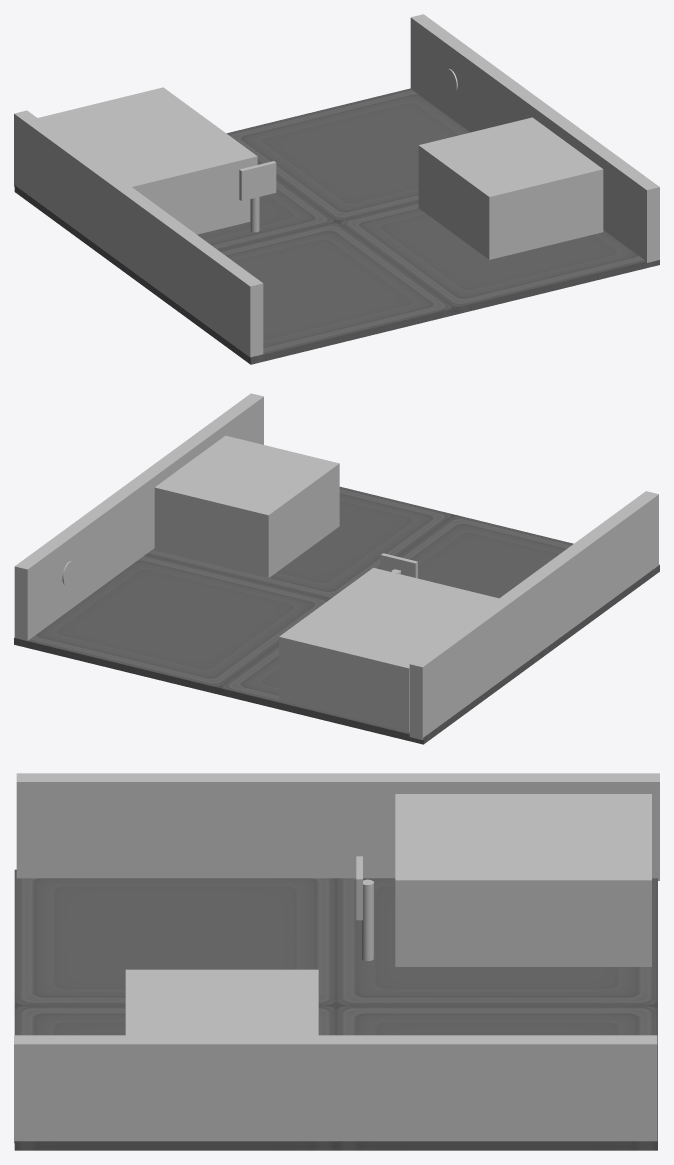
File: Level 2.fbx
3 views of the same model, one above another, from view 1: azimuth 30°, elevation 25°; view 2: azimuth 150°, elevation 25°; view 3: azimuth 270°, elevation 25° (orthographic). The views are drawn at different scales.
Parts seen in each view (by area): view 1: floor, wall1, Box002, Box001, wall2, Box003; view 2: floor, wall1, Box001, Box002, wall2, Box003; view 3: floor, wall2, wall1, Box001, Box002, Cylinder001.
Boxes of the visible parts, box(x1,y1,x2,y2) form: floor: box(14, 88, 659, 364); wall1: box(14, 110, 263, 357); Box002: box(418, 117, 603, 259); Box001: box(38, 87, 257, 234); wall2: box(410, 14, 659, 262); Box003: box(239, 161, 276, 200); floor: box(14, 486, 659, 744); wall1: box(409, 491, 658, 739); Box001: box(279, 567, 498, 731); Box002: box(154, 435, 339, 578); wall2: box(14, 393, 263, 640); Box003: box(380, 553, 417, 578); floor: box(14, 869, 657, 1150); wall2: box(14, 1035, 657, 1143); wall1: box(16, 773, 659, 880); Box001: box(395, 794, 651, 966); Box002: box(125, 969, 318, 1035); Cylinder001: box(361, 879, 373, 960).
Size of the model in its own units: 500 by 91.27 by 502.
